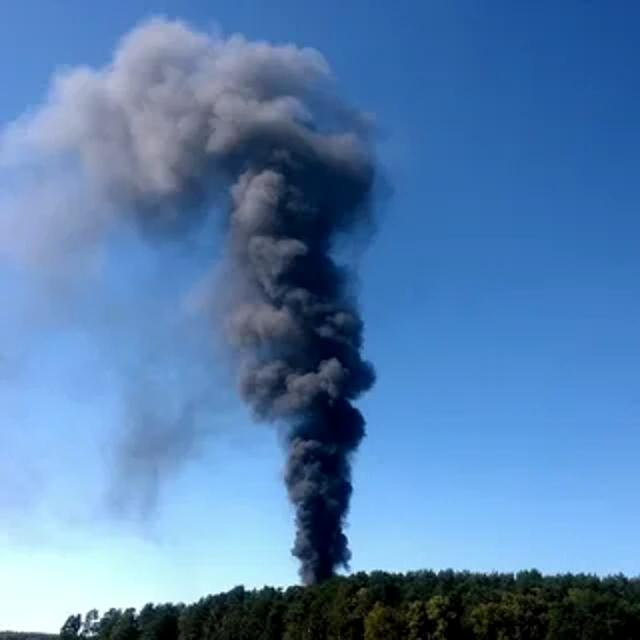no_helmet: (124, 24, 387, 582)
